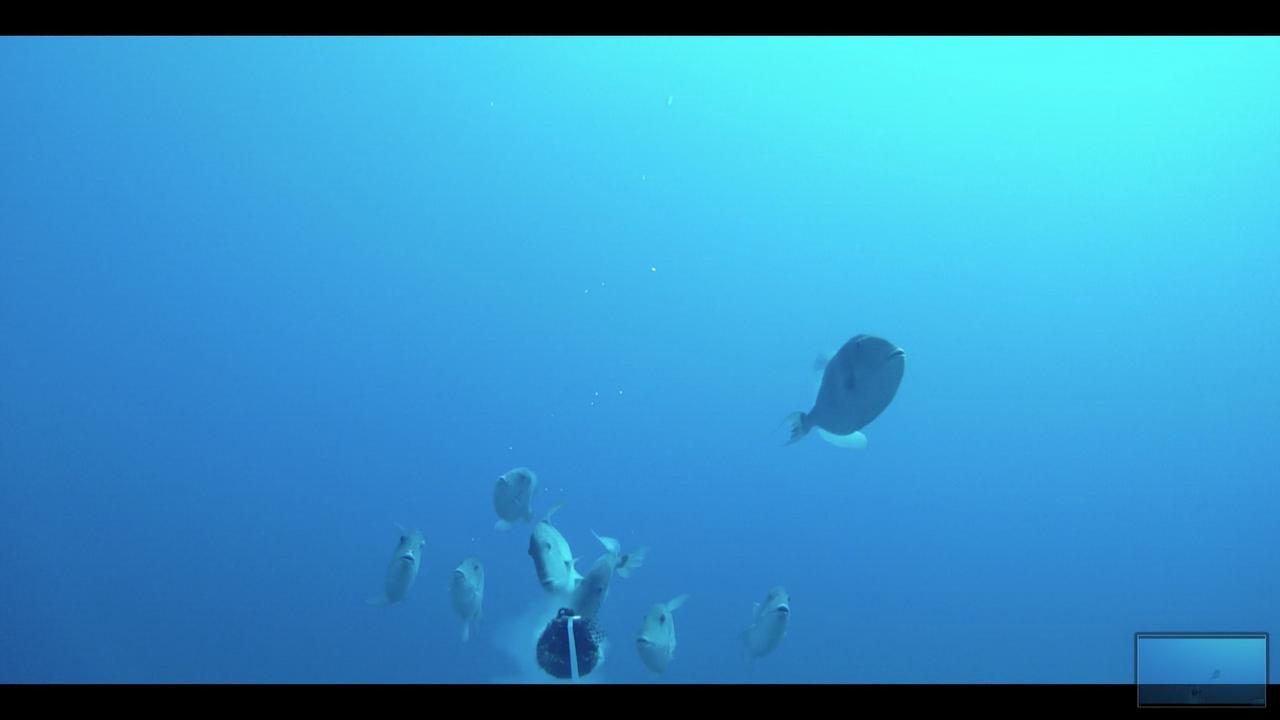balistes: (781, 327, 908, 448), (472, 461, 575, 538), (574, 525, 640, 630), (367, 516, 431, 606), (521, 498, 579, 596), (631, 588, 692, 676), (738, 580, 797, 665), (442, 558, 497, 646)
